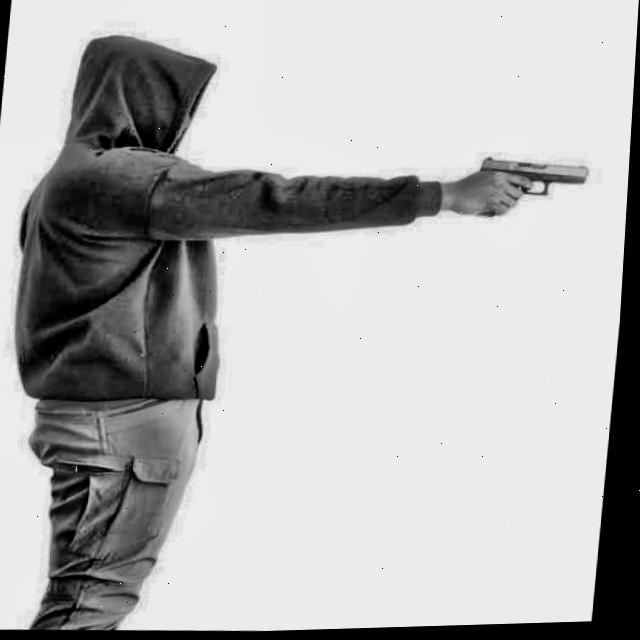pistol: (457, 145, 600, 240)
robbery: (0, 25, 619, 628)
